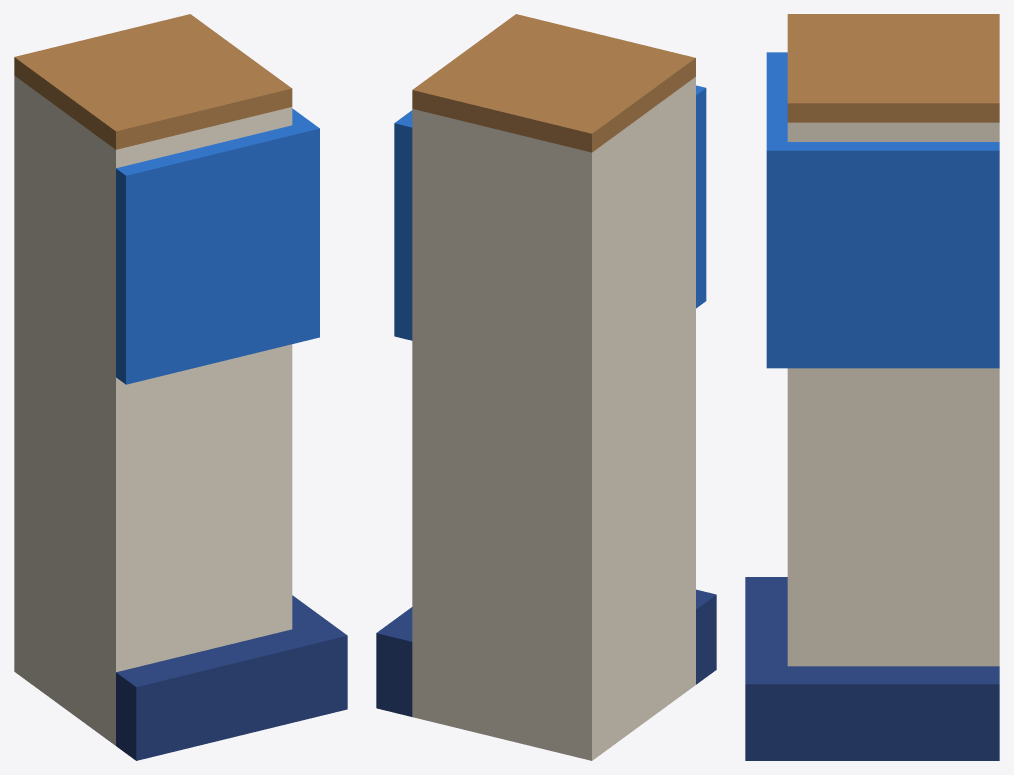
File: wall-corner.glb
3 renders of one model, left to right at view 1: azimuth 30°, elevation 25°; view 2: azimuth 150°, elevation 25°; view 3: azimuth 270°, elevation 25°, orthographic. The views are drawn at different scales.
Visible parts, largest first — view 1: wall-corner; view 2: wall-corner; view 3: wall-corner.
Boxes of the visible parts, x1,y1,x2,y2 form: wall-corner: [14, 14, 347, 760]; wall-corner: [376, 14, 716, 760]; wall-corner: [745, 14, 999, 760].
Bounding box in the file's own units: 0.18 × 0.5 × 0.18.
Materials: 1 (1 with a texture image).
